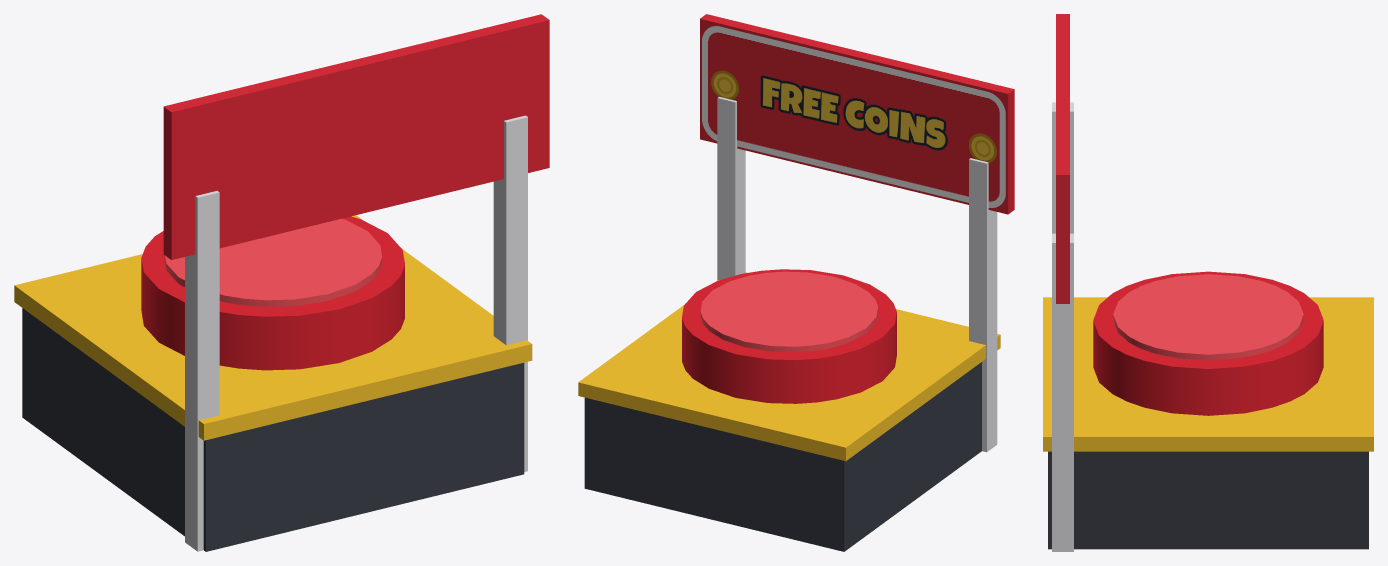
File: free_coins_button.obj
The picture shows the model from 3 angles, left to right: view 1: azimuth 30°, elevation 25°; view 2: azimuth 150°, elevation 25°; view 3: azimuth 270°, elevation 25°; orthographic projection. The views are drawn at different scales.
Parts seen in each view (by area): view 1: Sign, Base, BaseTrim, Button, ButtonTop, PostL, PostR; view 2: Base, Sign_SignText, BaseTrim, Button, ButtonTop, PostL, Sign, PostR; view 3: Base, BaseTrim, Button, ButtonTop, PostR, Sign, PostL.
Part boxes in pixels (x1,y1,x2,y2): Sign: (163,14,549,259); Base: (22,308,524,551); BaseTrim: (14,215,532,440); Button: (141,216,404,370); ButtonTop: (164,218,382,306); PostL: (185,191,219,551); PostR: (493,115,527,471); Base: (584,362,981,551); Sign_SignText: (702,26,1005,208); BaseTrim: (578,272,1000,461); Button: (682,269,896,403); ButtonTop: (700,271,878,352); PostL: (969,158,997,452); Sign: (700,14,1014,214); PostR: (717,97,745,280); Base: (1048,451,1368,549); BaseTrim: (1043,297,1373,451); Button: (1093,271,1323,415); ButtonTop: (1113,274,1303,360); PostR: (1052,233,1073,551); Sign: (1056,14,1069,303); PostL: (1052,102,1073,233).
Bounding box in the file's own units: 3.8 × 4.26 × 3.3.
Materials: 8 (1 with a texture image).
